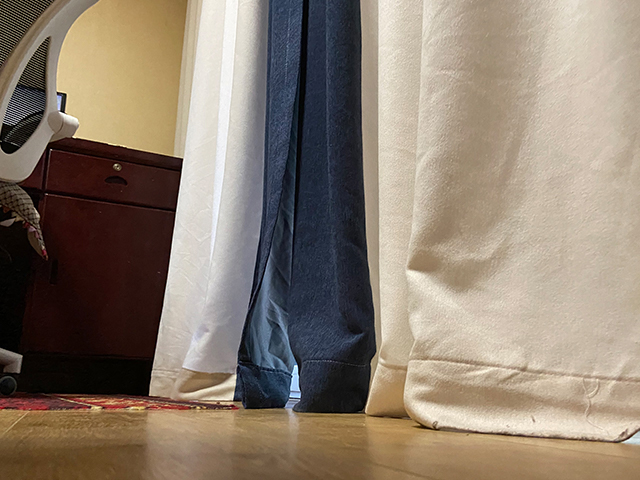carpet: (1, 392, 238, 412)
curtain: (145, 1, 640, 438)
table: (1, 135, 184, 394)
